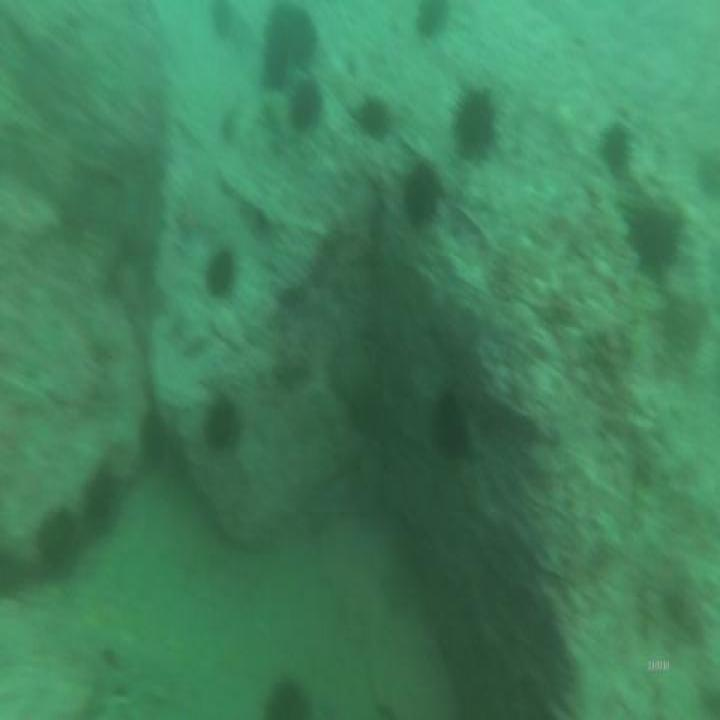echinus: (260, 11, 315, 80), (631, 201, 680, 268), (431, 393, 468, 462), (454, 96, 493, 158), (39, 510, 74, 576), (86, 475, 117, 535), (408, 160, 435, 224), (601, 124, 627, 187), (288, 84, 317, 134), (140, 411, 164, 468), (203, 404, 235, 446), (356, 100, 387, 142), (207, 247, 232, 297), (418, 0, 444, 36), (211, 4, 231, 34)
